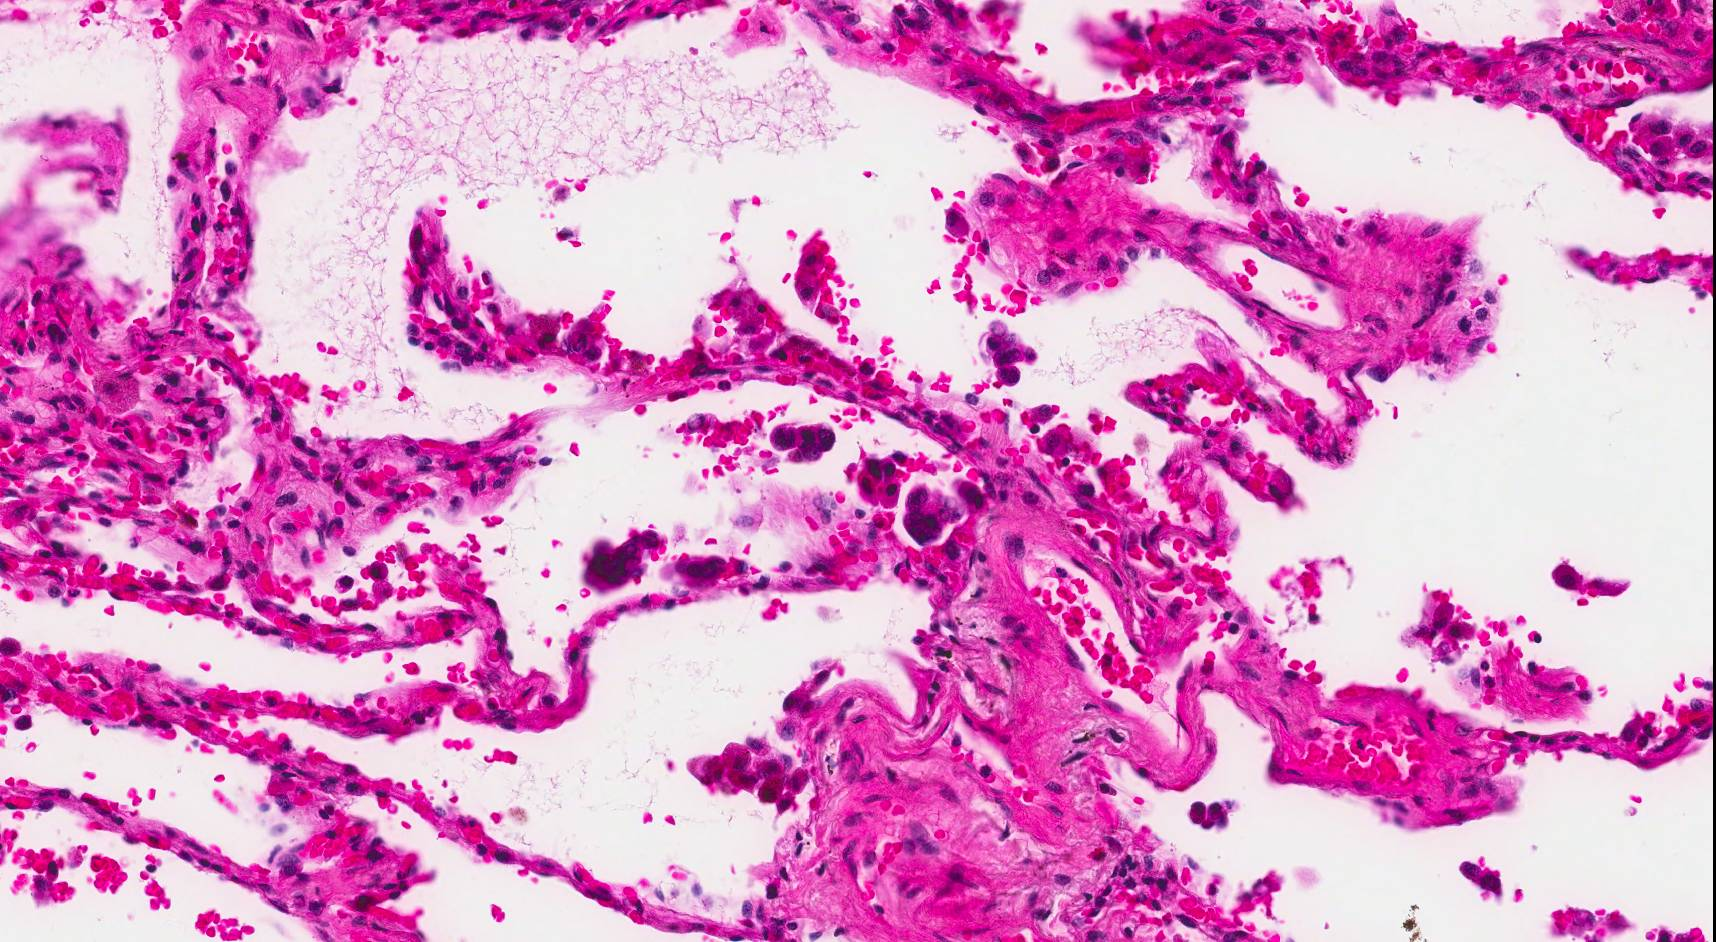stas: (579, 524, 668, 595), (978, 321, 1043, 387), (901, 482, 966, 546), (771, 416, 840, 467), (1183, 794, 1245, 843), (671, 552, 742, 589), (856, 455, 902, 505)
